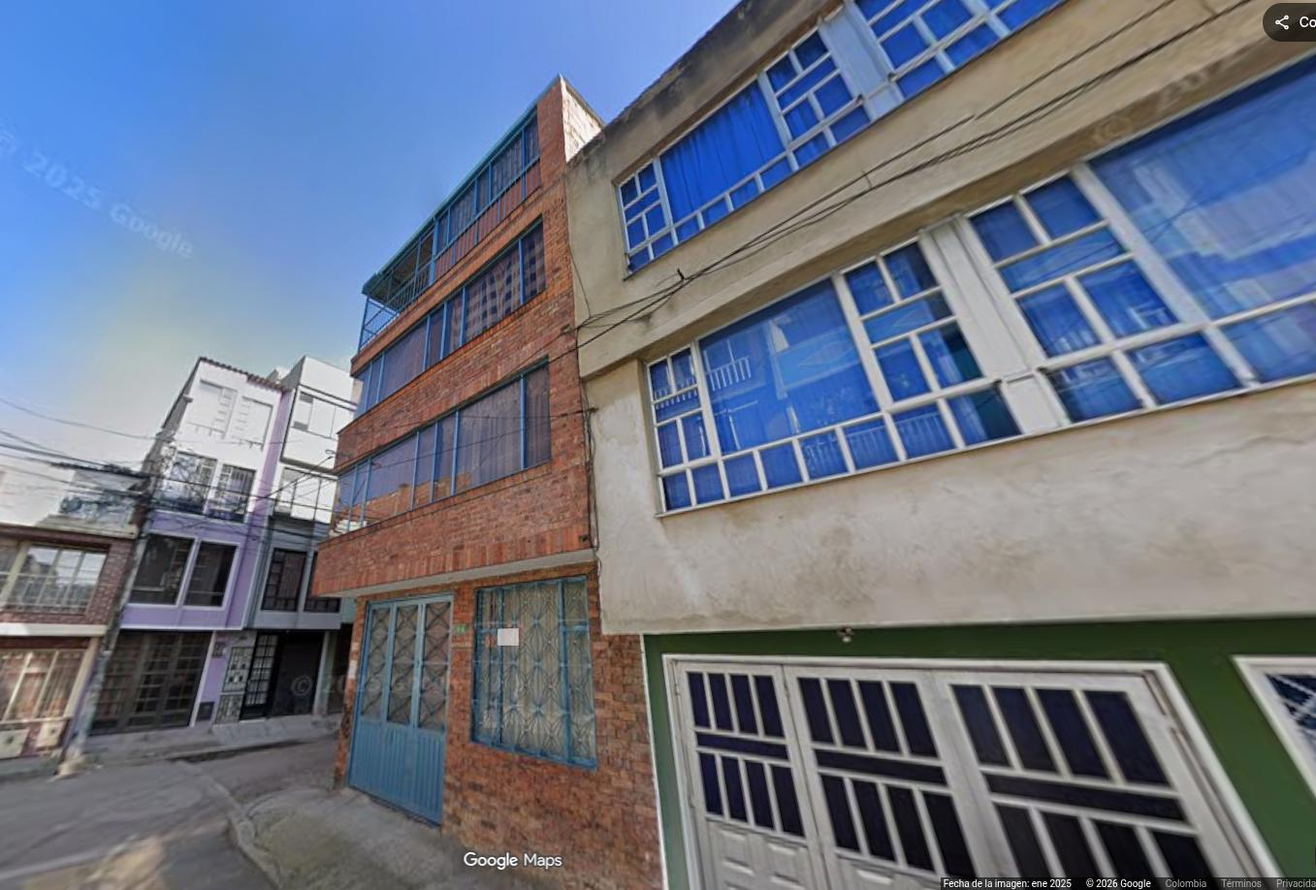casa: (566, 0, 1315, 889), (312, 78, 659, 889), (90, 359, 291, 734), (0, 464, 146, 759)
